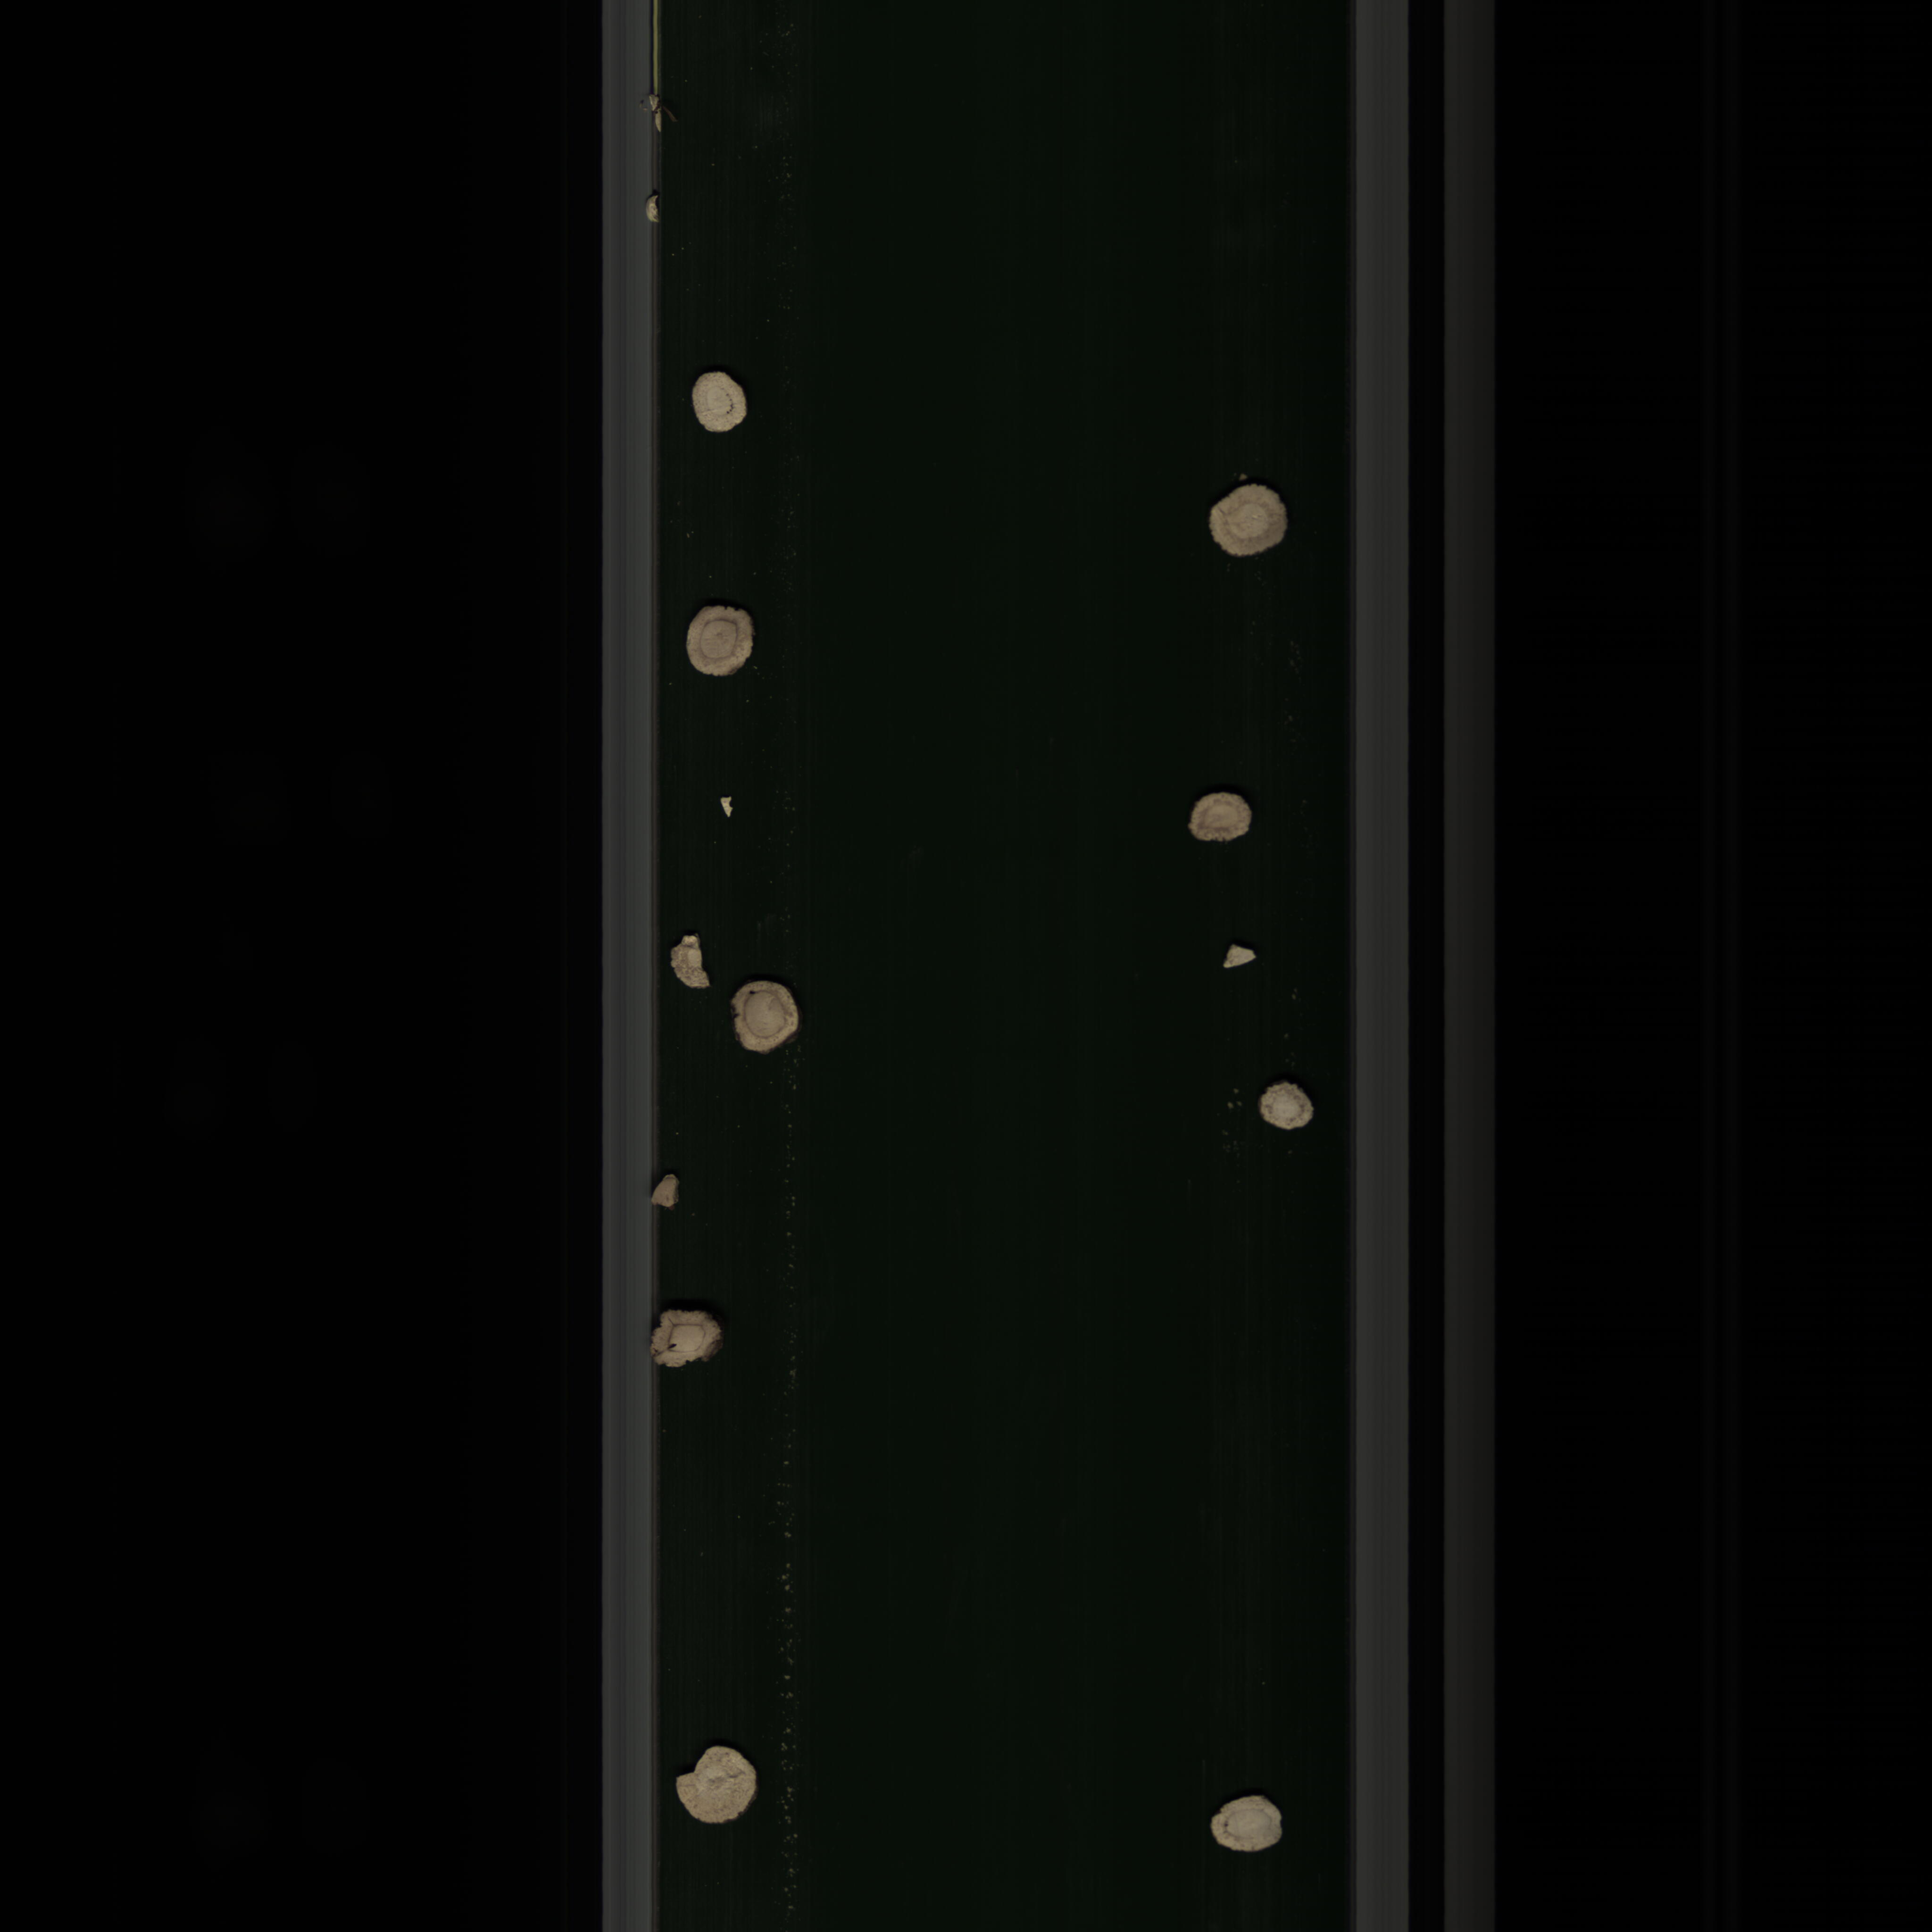debris: (656, 927, 718, 994), (1208, 936, 1267, 987), (651, 1169, 694, 1215)
distortion: (644, 1306, 731, 1375)
